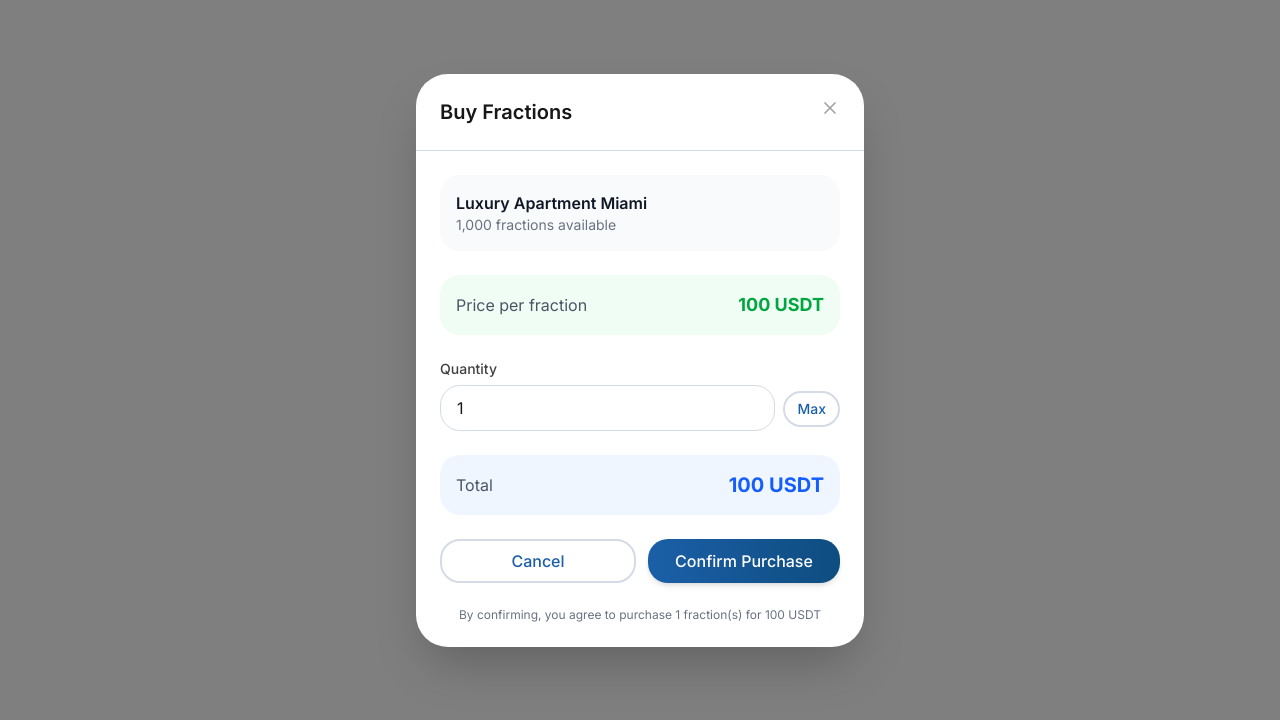
Test: PurchaseModal › should have max button to set max quantity
Click the button "Max" at (812, 408), box [784,390,840,426]
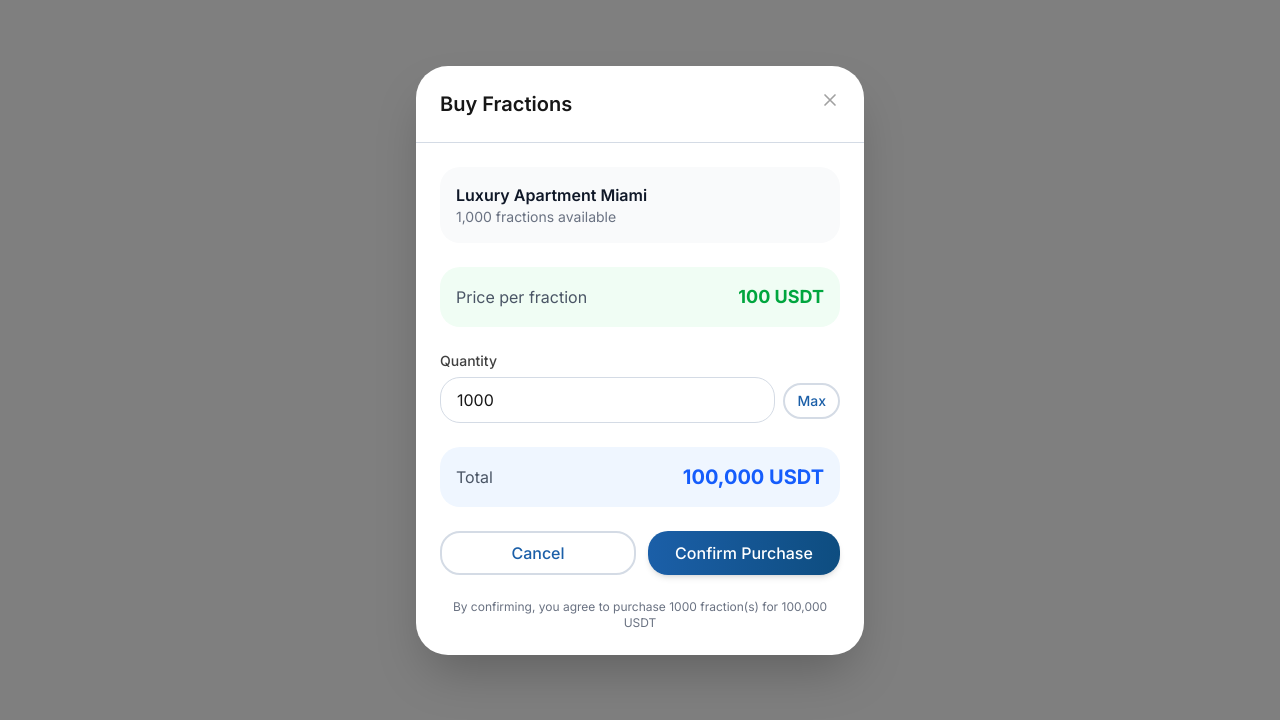
expect the field labelled "Quantity" holds "1000": met, box [440,376,776,422]
